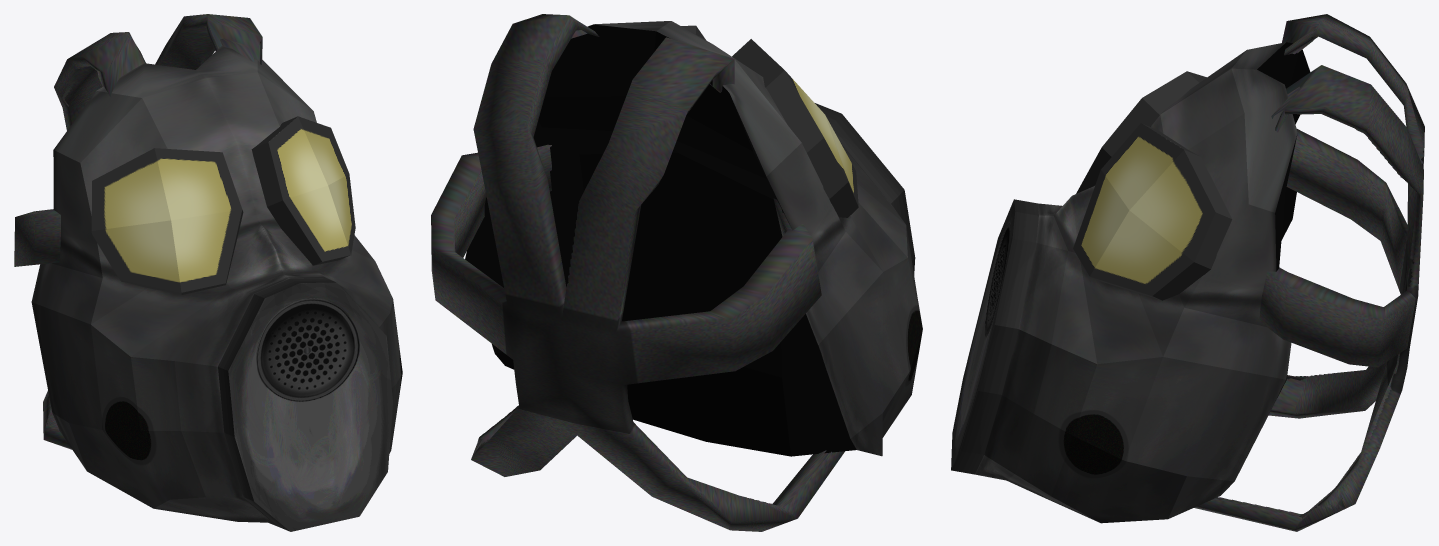
Rendered from PoliceM17_WorldItem.fbx.
3 views of the same model, side by side, from view 1: azimuth 30°, elevation 25°; view 2: azimuth 150°, elevation 25°; view 3: azimuth 270°, elevation 25° (orthographic). The views are drawn at different scales.
Parts seen in each view (by area): view 1: Cube.005; view 2: Cube.005; view 3: Cube.005.
Boxes of the visible parts, x1,y1,x2,y2 form: Cube.005: [14, 14, 402, 531]; Cube.005: [431, 14, 922, 531]; Cube.005: [951, 14, 1424, 531].
Size of the model in its own units: 0.2574 by 0.3223 by 0.316.
